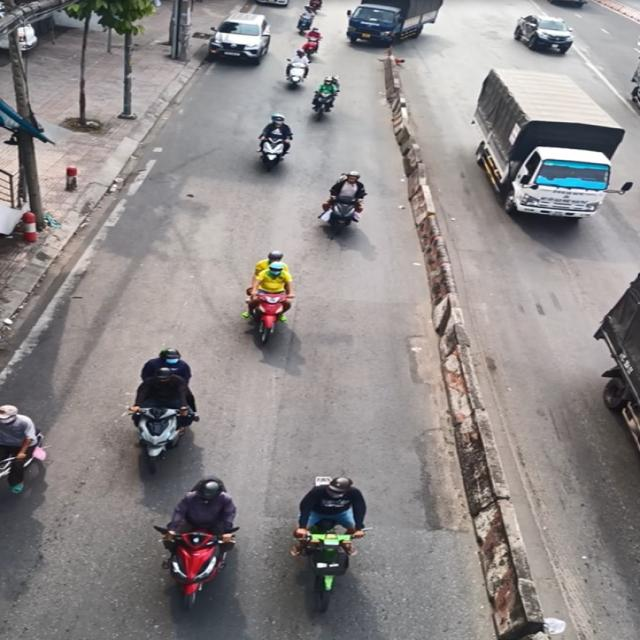car: (200, 7, 279, 70), (520, 12, 582, 63)
motor: (154, 476, 266, 624), (285, 468, 391, 622), (114, 350, 207, 480), (239, 248, 321, 352), (304, 166, 376, 241)
truck: (474, 74, 626, 235)
